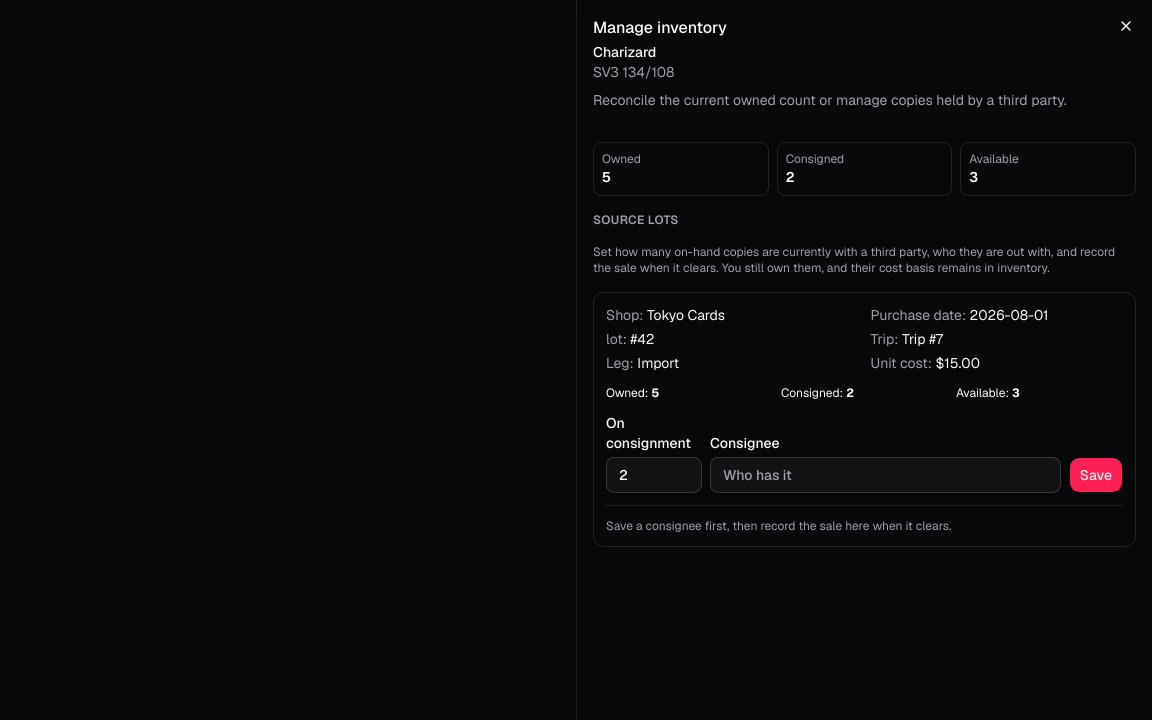
Scenario: InventoryConsignmentSheet › renders structured mutation errors as readable text
Click the button "Save": (1096, 475) [1069,457,1123,493]
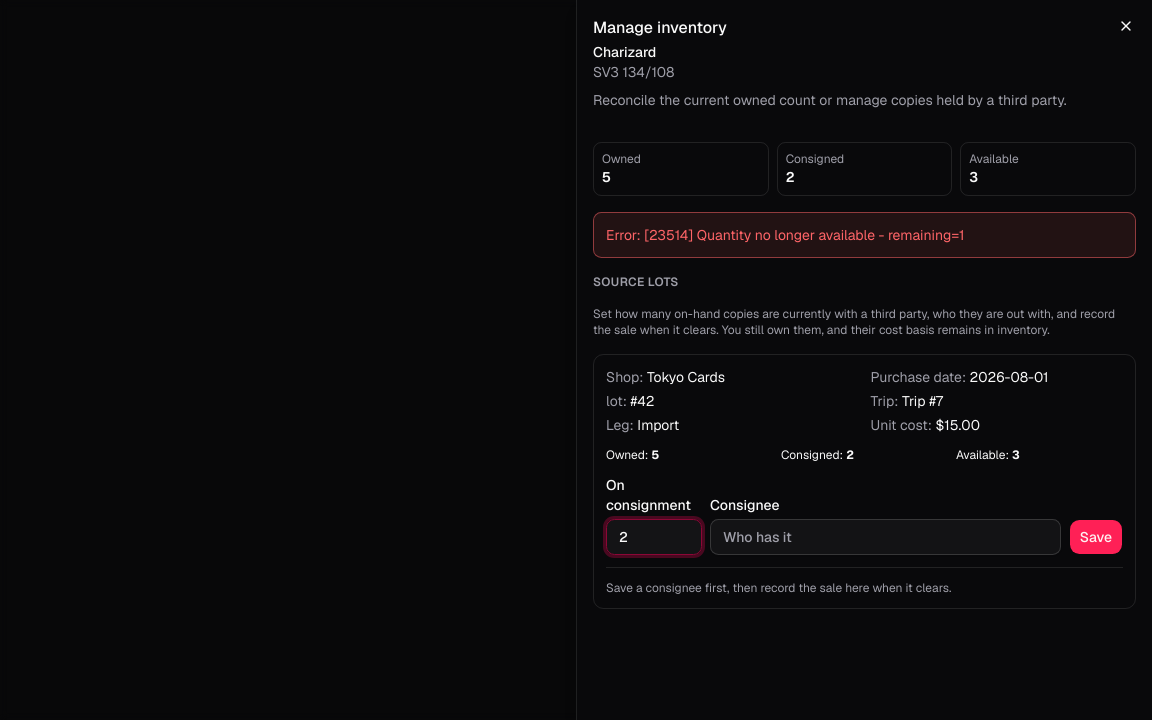
Result: the message shows "[23514] Quantity no longer available - remaining=1" at [606,226,964,244]
